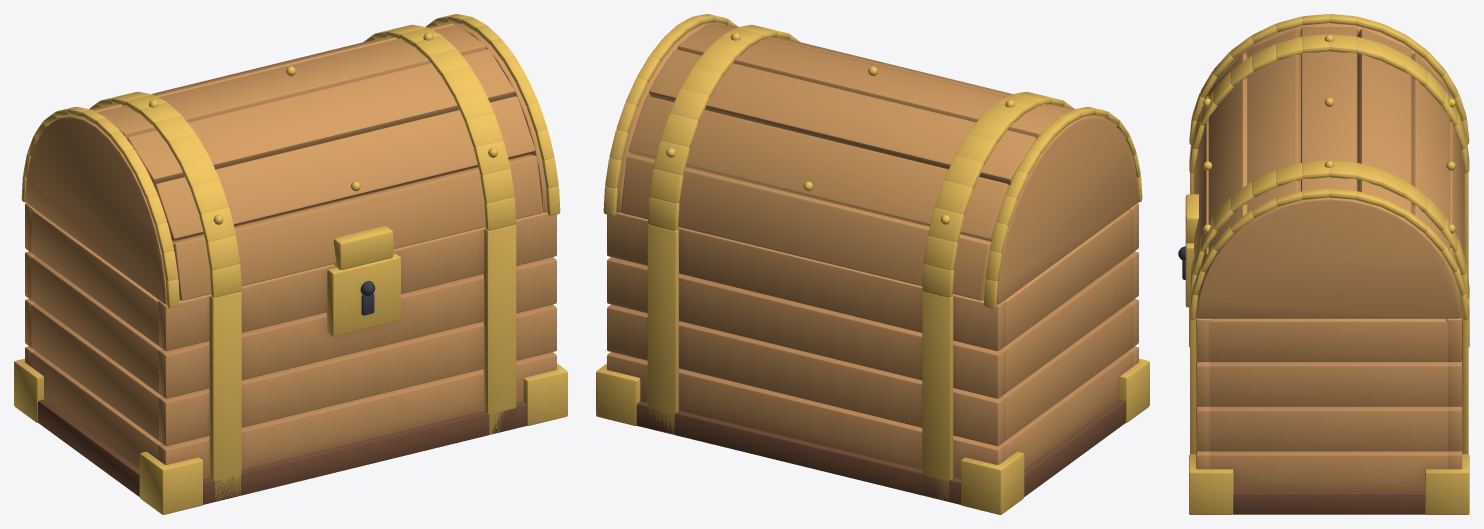
The model's file is cofre.glb.
The picture shows the model from 3 angles, left to right: view 1: azimuth 30°, elevation 25°; view 2: azimuth 150°, elevation 25°; view 3: azimuth 270°, elevation 25°; orthographic projection. The views are drawn at different scales.
Parts seen in each view (by area): view 1: treasure-chest_body, treasure-chest_lid; view 2: treasure-chest_body, treasure-chest_lid; view 3: treasure-chest_lid, treasure-chest_body.
Part boxes in pixels (x1=…): treasure-chest_body: x1=14, y1=203, x2=567, y2=514; treasure-chest_lid: x1=21, y1=14, x2=560, y2=308; treasure-chest_body: x1=596, y1=203, x2=1149, y2=514; treasure-chest_lid: x1=603, y1=14, x2=1142, y2=308; treasure-chest_lid: x1=1185, y1=14, x2=1469, y2=319; treasure-chest_body: x1=1178, y1=173, x2=1469, y2=514.
Bounding box in the file's own units: 0.828 × 0.673 × 0.548.
3 materials, 1 textured.
